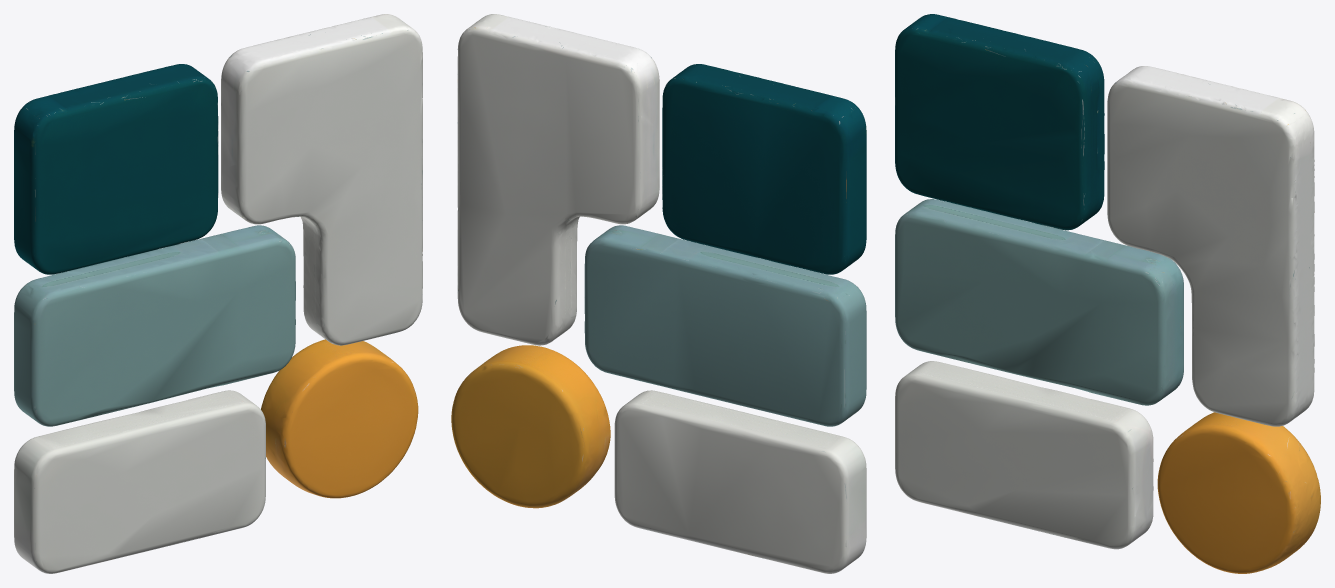
The model's file is mosaic-mark.glb.
3 views of the same model, side by side, from view 1: azimuth 30°, elevation 25°; view 2: azimuth 150°, elevation 25°; view 3: azimuth 330°, elevation 25° (orthographic). The views are drawn at different scales.
Visible parts, largest first — view 1: Mesh_0; view 2: Mesh_0; view 3: Mesh_0.
Part boxes in pixels (bbox=[...]): Mesh_0: bbox=[14, 14, 422, 573]; Mesh_0: bbox=[451, 14, 866, 573]; Mesh_0: bbox=[895, 14, 1320, 573].
Bounding box in the file's own units: 1.69 × 1.91 × 0.2331.
Materials: 1 (1 with a texture image).
